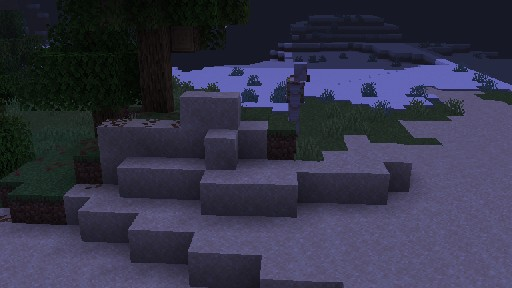iron_golem: (285, 60, 309, 136)
